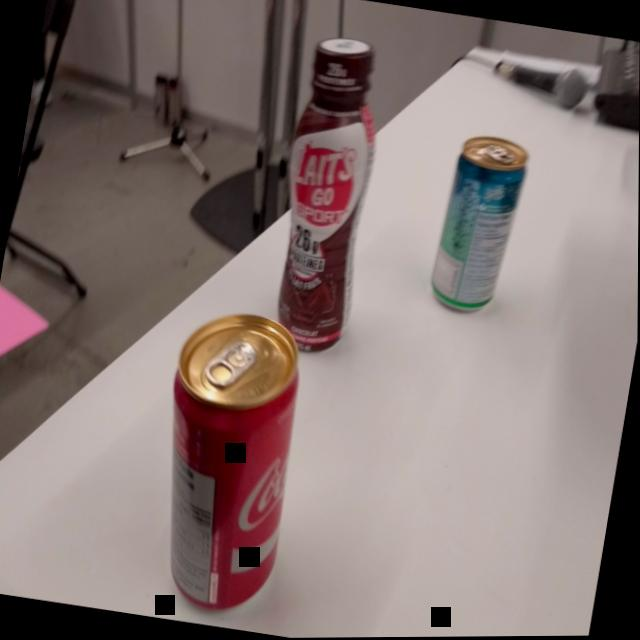chocolate_drink: (262, 28, 396, 358)
coke: (134, 298, 317, 625)
sprite: (420, 126, 537, 329)
